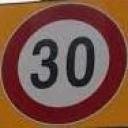speed_limit_30: (1, 3, 128, 125)
